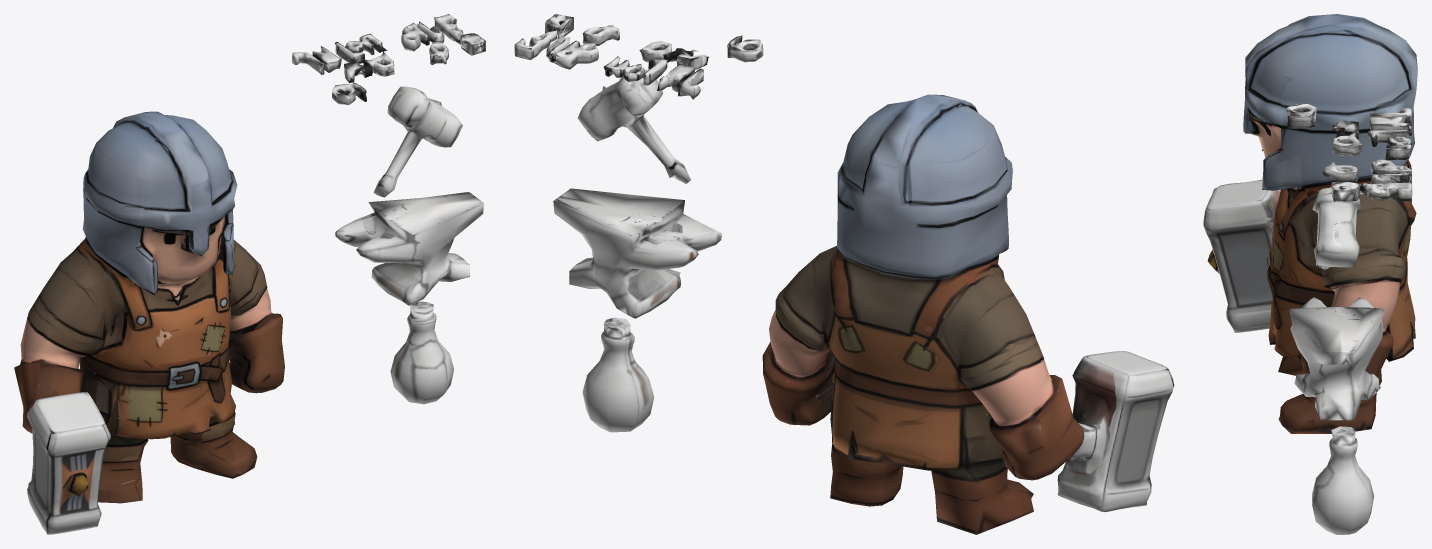
The model's file is npc_blacksmith.glb.
3 renders of one model, left to right at view 1: azimuth 30°, elevation 25°; view 2: azimuth 150°, elevation 25°; view 3: azimuth 270°, elevation 25°, orthographic. The views are drawn at different scales.
Bounding box in the file's own units: 1.91 × 1.3 × 0.6728.
1 material, 1 textured.
